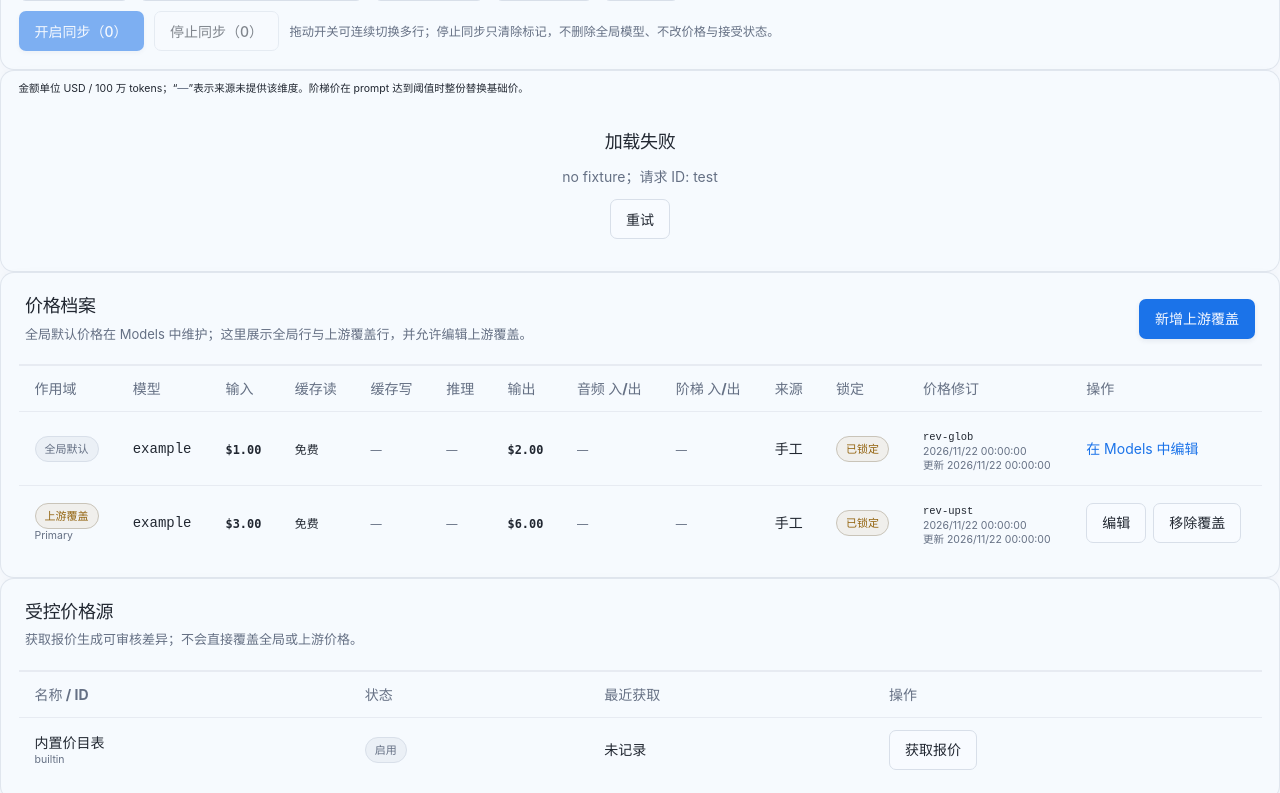
it: prices surface › renders price_run_not_ready with its own next action
(page scrolled)
Click the button "获取报价".
click(933, 750)  # box [889,730,977,770]
(page scrolled)
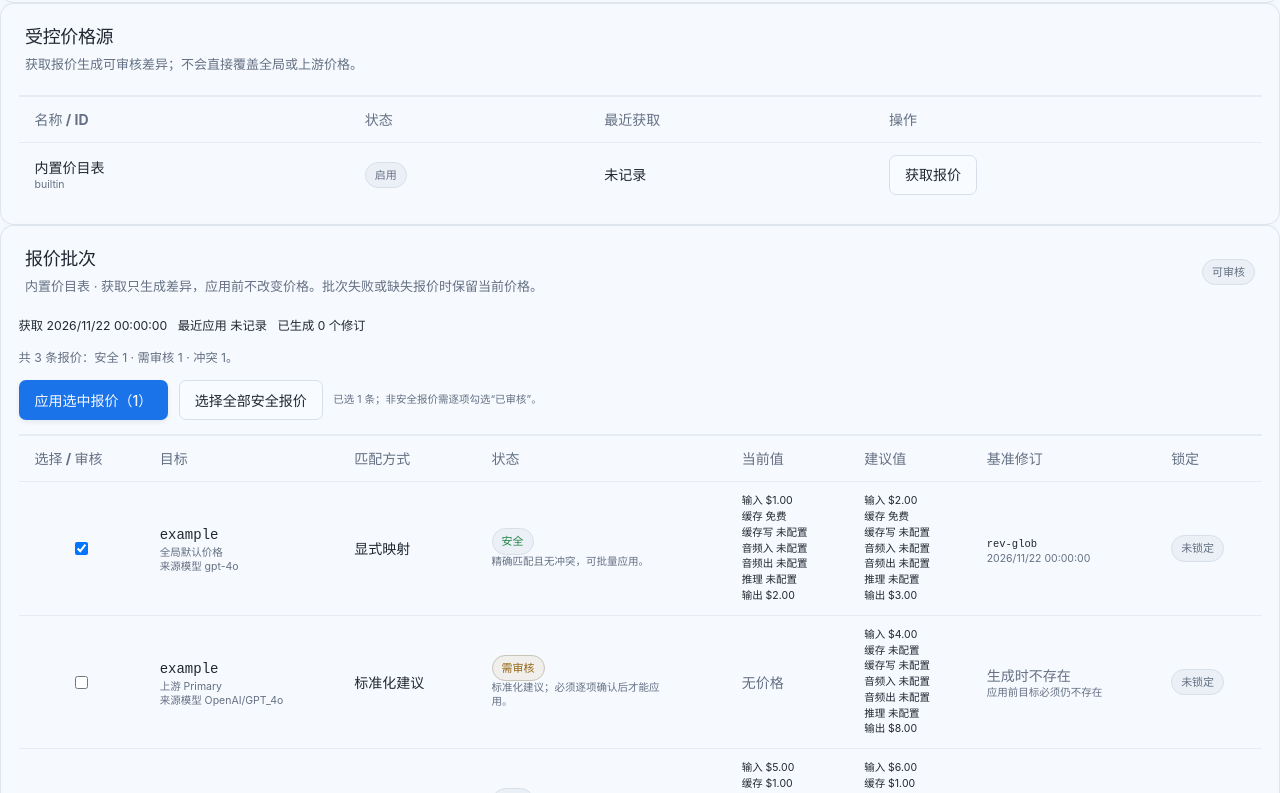
Click the button "应用选中报价（1）".
click(93, 400)  # box [18,380,168,420]
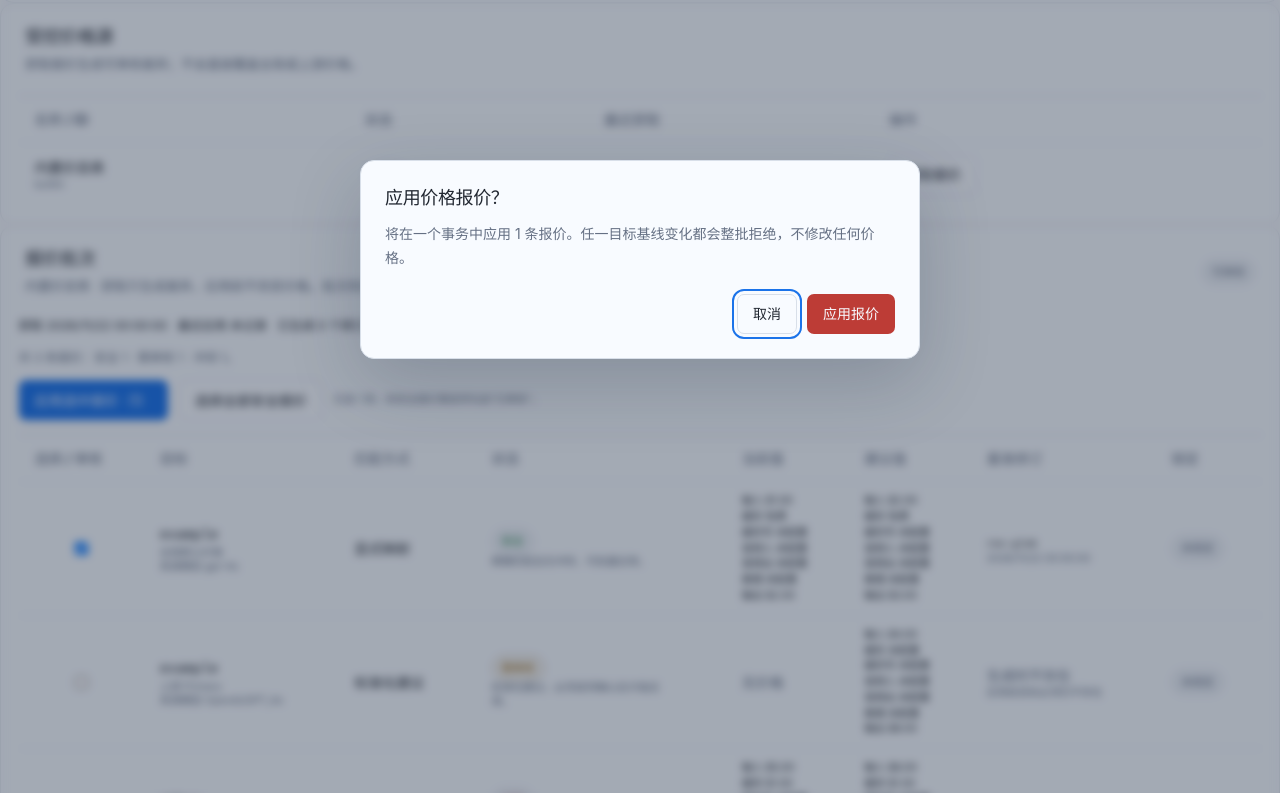
Click the button "应用报价".
click(851, 314)  # box [807,294,895,334]
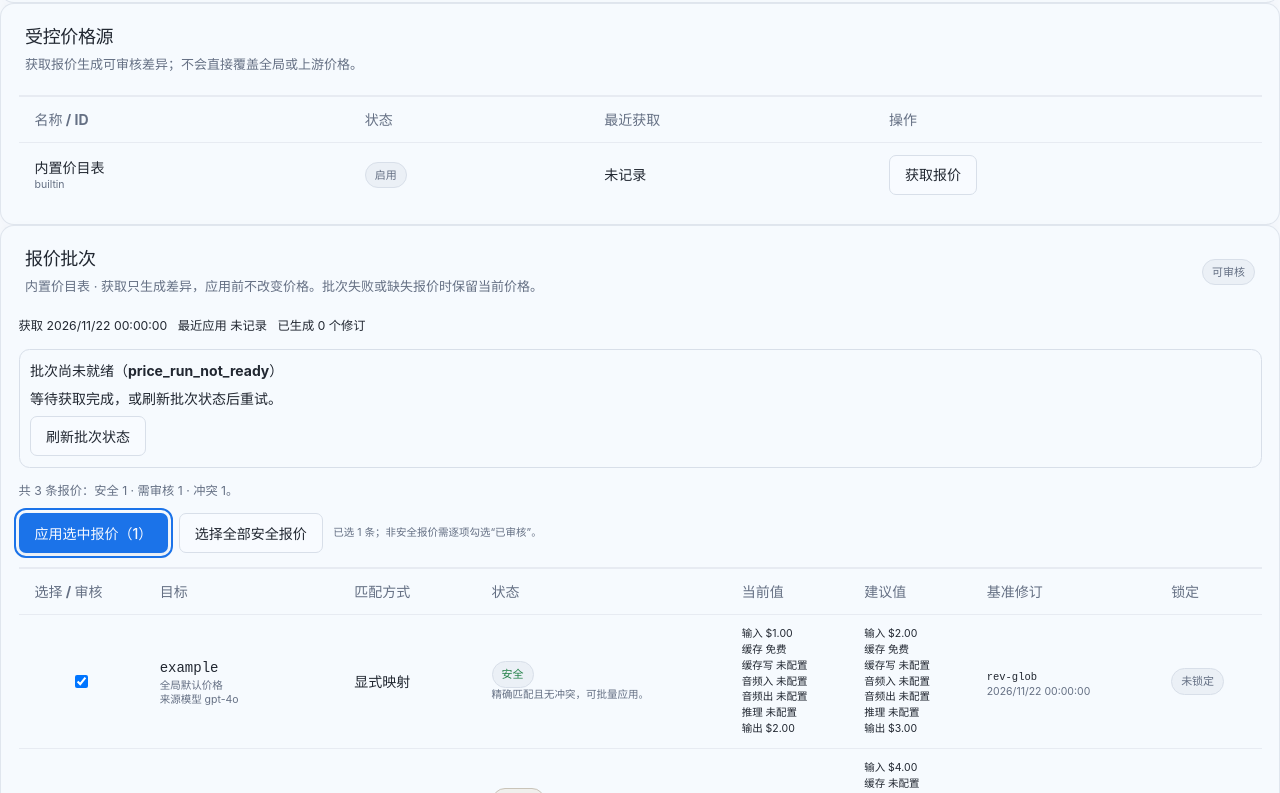
Result: the message "批次尚未就绪（price_run_not_ready） 等待获取完成，或刷新批次状态后重试。 刷新批次状态" is shown at [18,349,1262,468]
